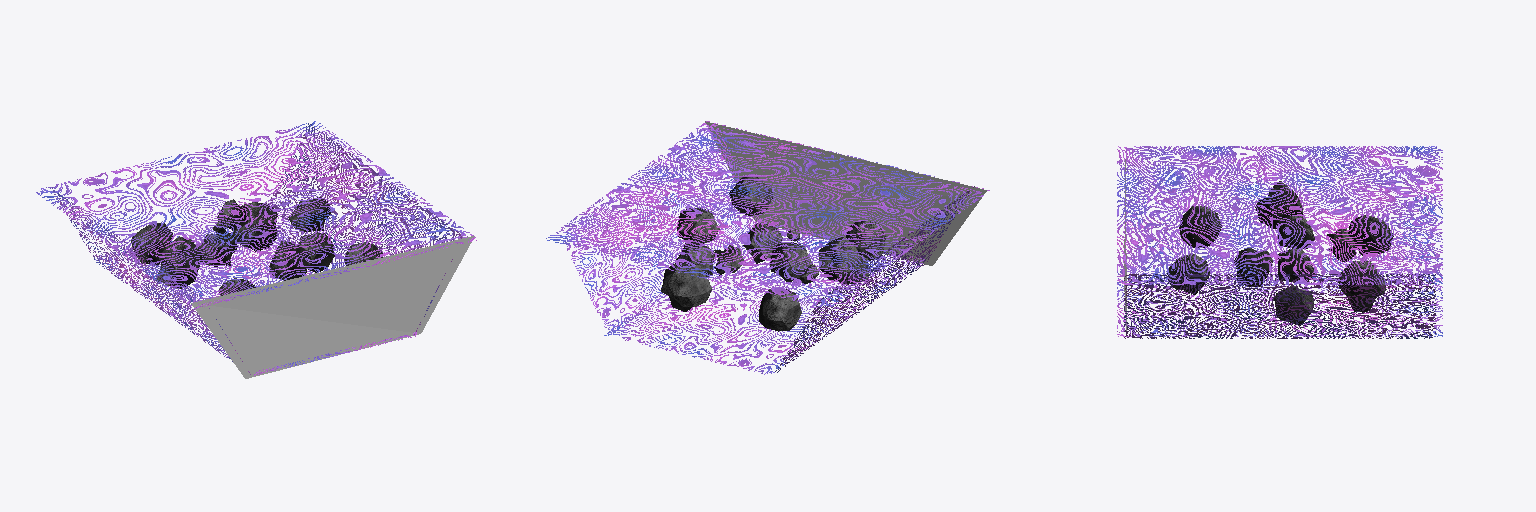
The picture shows the model from 3 angles: view 1: azimuth 30°, elevation 25°; view 2: azimuth 150°, elevation 25°; view 3: azimuth 270°, elevation 25°; orthographic projection.
Parts seen in each view (by area): view 1: Back, Cieling, Right_wall, Left_wall, Floor, Asteroide05, Asteroide12, Asteroide08, Asteroide10, Asteroide11, Asteroide01, Asteroide09; view 2: Cieling, Back, Floor, Right_wall, Left_wall, Asteroide12, Asteroide08, Asteroide05, Asteroide09, Asteroide04, Asteroide01, Asteroide07 (+1 smaller); view 3: Cieling, Right_wall, Left_wall, Floor, Asteroide12, Asteroide07, Asteroide08, Asteroide05, Asteroide11, Asteroide09, Asteroide10, Asteroide04 (+1 smaller).
Boxes of the visible parts, x1,y1,x2,y2 form: Back: [191, 236, 474, 378]; Cieling: [36, 121, 476, 308]; Right_wall: [270, 123, 461, 334]; Left_wall: [50, 188, 250, 374]; Floor: [95, 228, 416, 375]; Asteroide05: [156, 236, 202, 288]; Asteroide12: [232, 202, 277, 251]; Asteroide08: [131, 223, 172, 264]; Asteroide10: [269, 241, 308, 280]; Asteroide11: [298, 232, 334, 272]; Asteroide01: [288, 197, 330, 231]; Asteroide09: [198, 232, 237, 266]; Cieling: [546, 121, 989, 306]; Back: [705, 121, 986, 265]; Floor: [604, 220, 924, 374]; Right_wall: [560, 124, 761, 334]; Left_wall: [775, 186, 974, 372]; Asteroide12: [661, 262, 711, 311]; Asteroide08: [759, 289, 801, 331]; Asteroide05: [819, 237, 868, 284]; Asteroide09: [770, 242, 812, 281]; Asteroide04: [729, 177, 772, 215]; Asteroide01: [677, 208, 719, 248]; Asteroide07: [846, 221, 886, 260]; Cieling: [1117, 146, 1442, 284]; Right_wall: [1124, 274, 1435, 338]; Left_wall: [1124, 147, 1435, 259]; Floor: [1117, 256, 1442, 336]; Asteroide12: [1338, 261, 1385, 312]; Asteroide07: [1179, 206, 1221, 247]; Asteroide08: [1348, 215, 1393, 255]; Asteroide05: [1255, 181, 1302, 228]; Asteroide11: [1274, 286, 1313, 325]; Asteroide09: [1278, 216, 1314, 248]; Asteroide10: [1234, 248, 1272, 286]; Asteroide04: [1167, 254, 1209, 294].
Size of the model in its own units: 43.67 by 13.33 by 43.18.
3 materials, 2 textured.